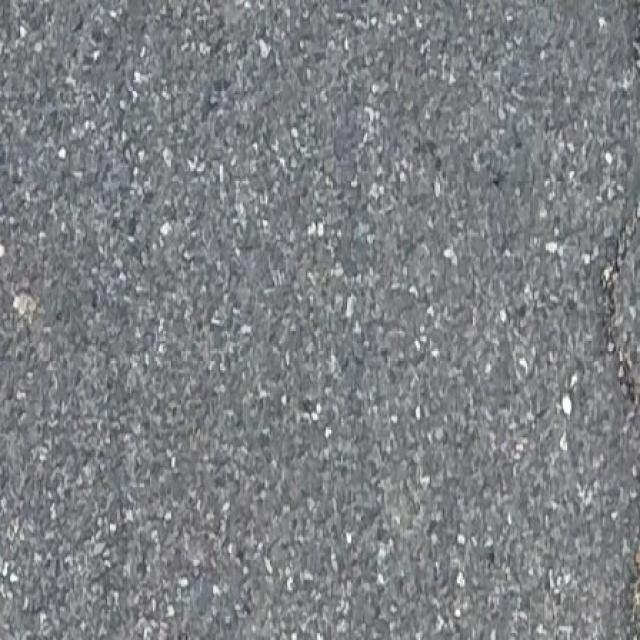Vertical Crack: (602, 189, 640, 421)
